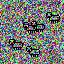sheep: (23, 21, 37, 33), (46, 12, 61, 23), (9, 39, 23, 50), (26, 46, 40, 57), (31, 21, 45, 31)
